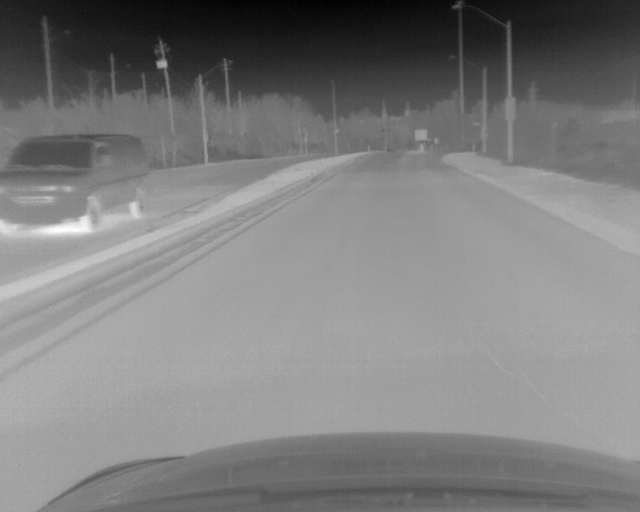car: (1, 134, 150, 232)
